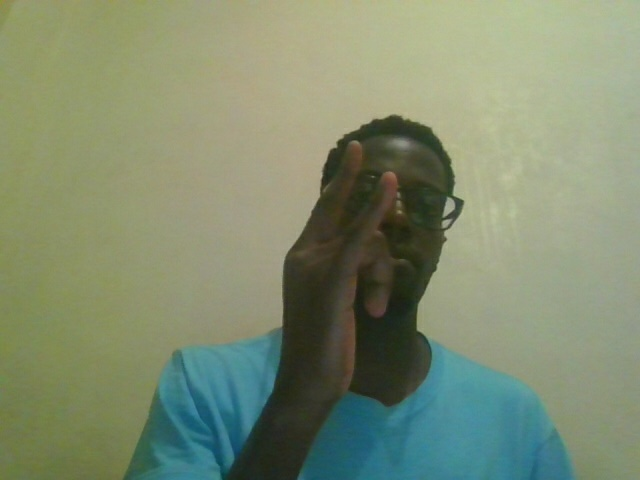I Love You: (277, 144, 401, 408)
